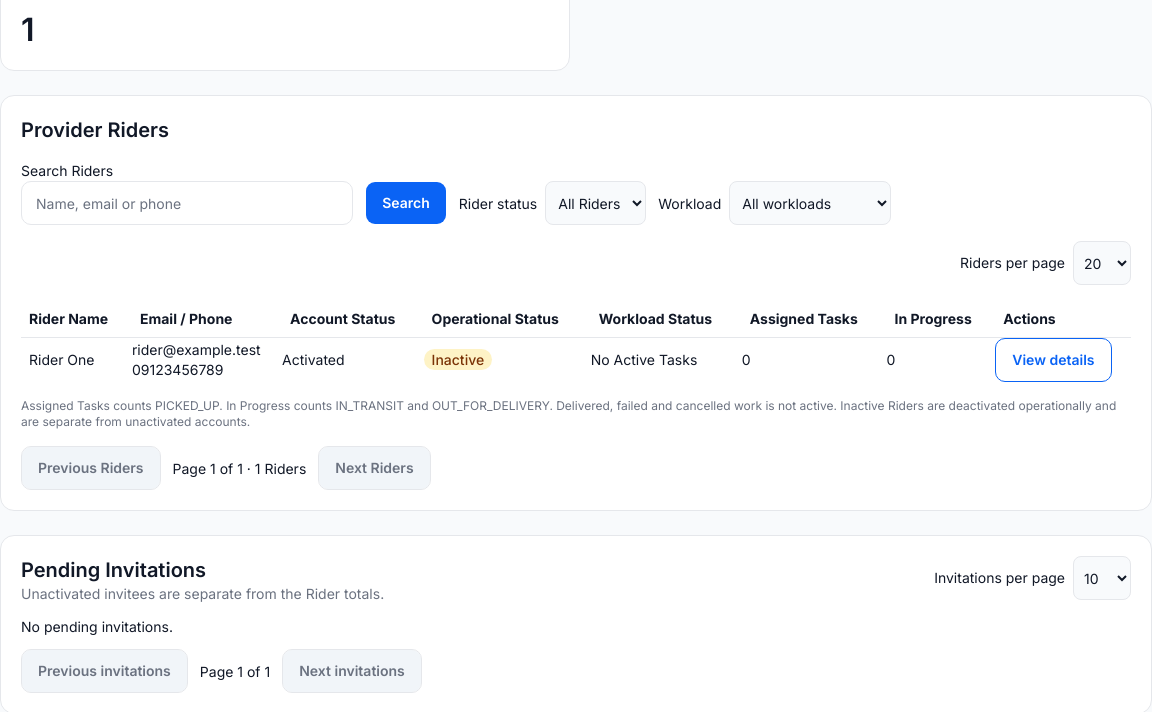
reactivates an inactive Rider and makes the state distinguishable
(page scrolled)
Click the button with aria-label "View Rider One details": (1053, 360) [995,338,1112,382]
(page scrolled)
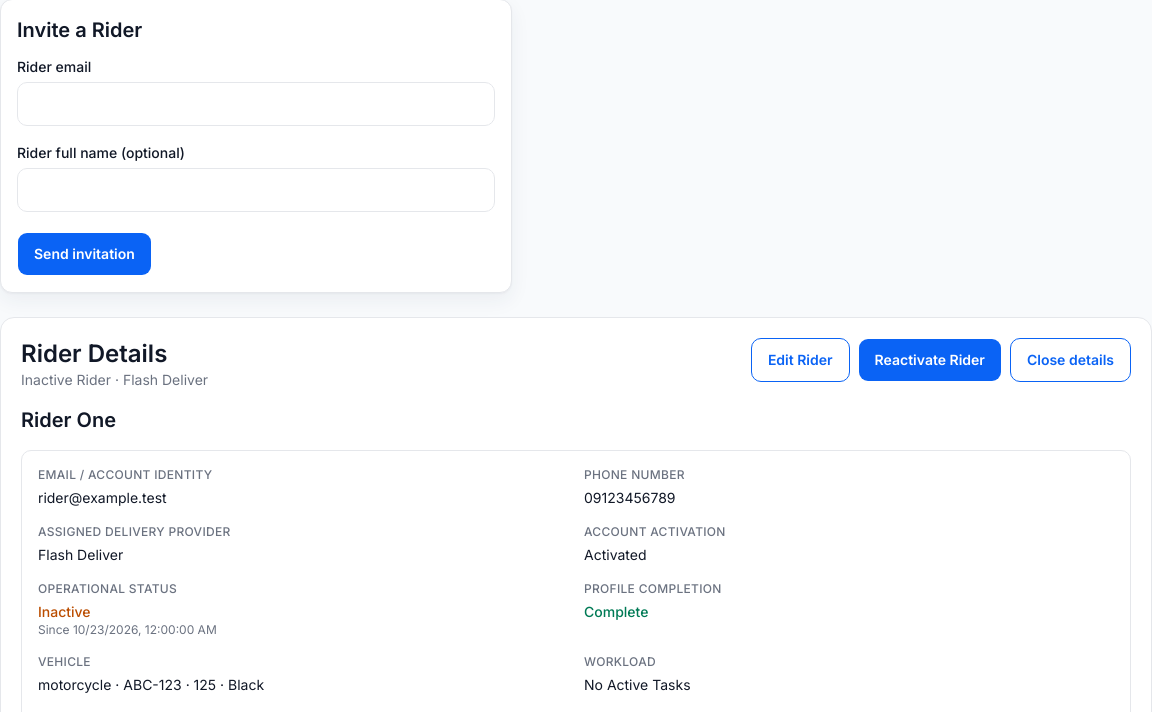
Click the button "Reactivate Rider": (930, 360) [858,338,1002,382]
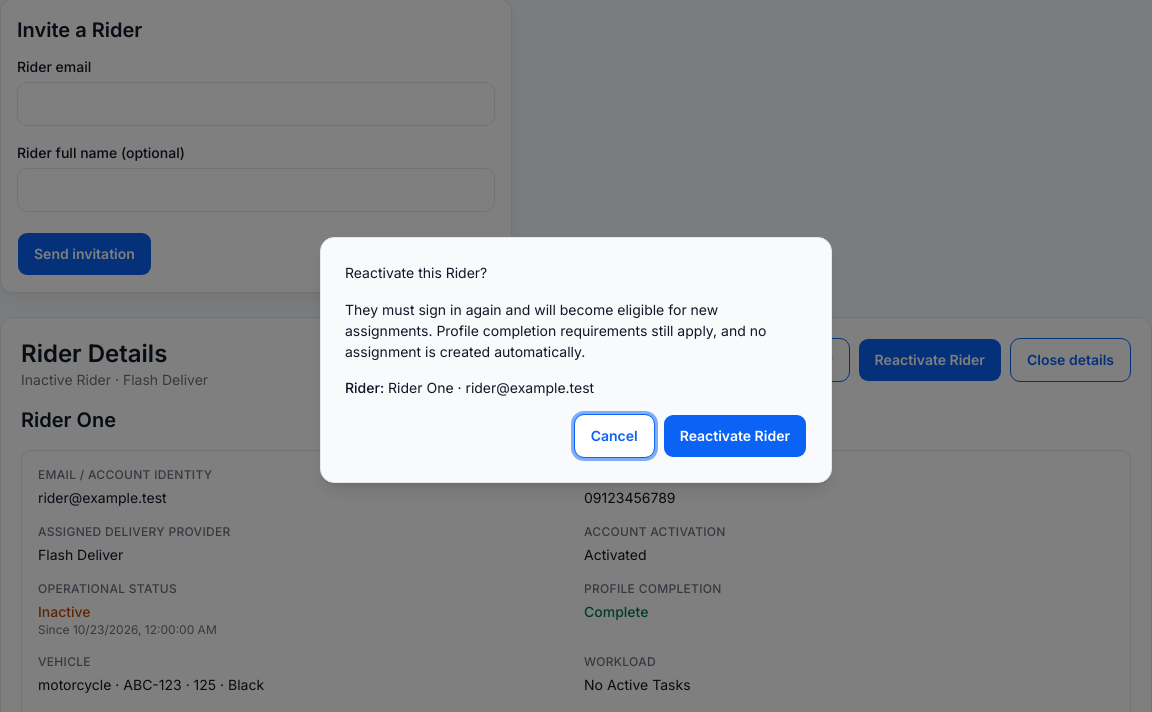
Click the button "Reactivate Rider": (735, 436) [663,414,807,458]
(page scrolled)
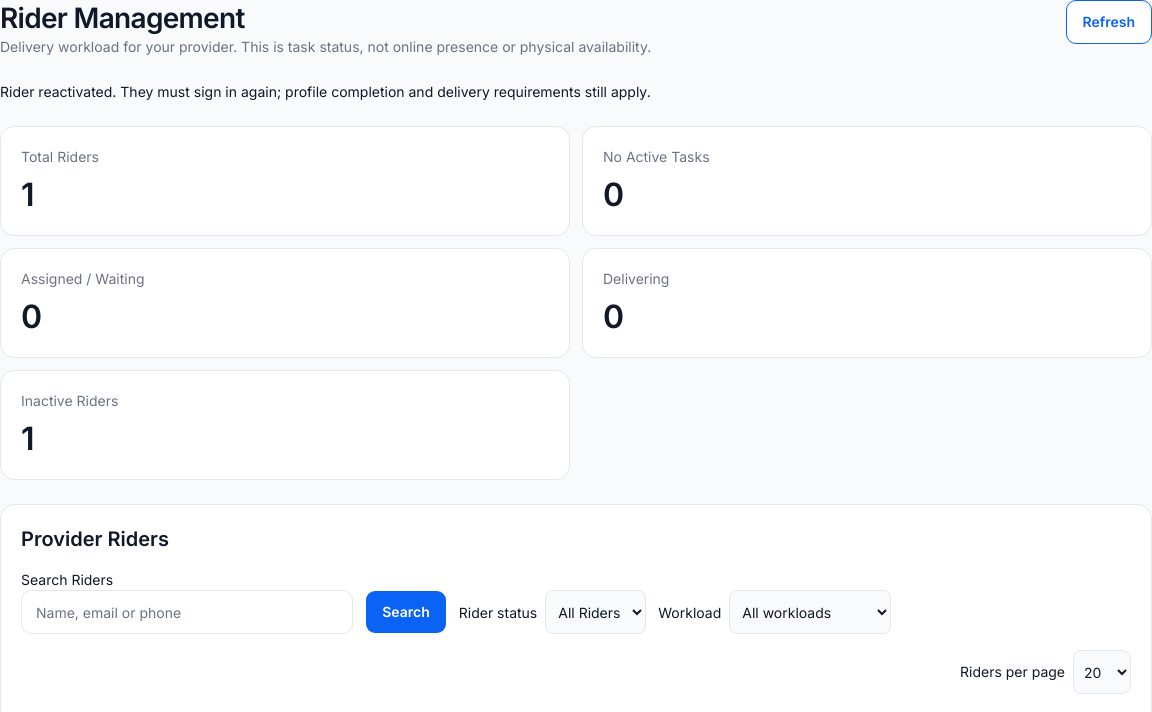
Now the text "Rider reactivated" is shown, box [0,83,651,100]
